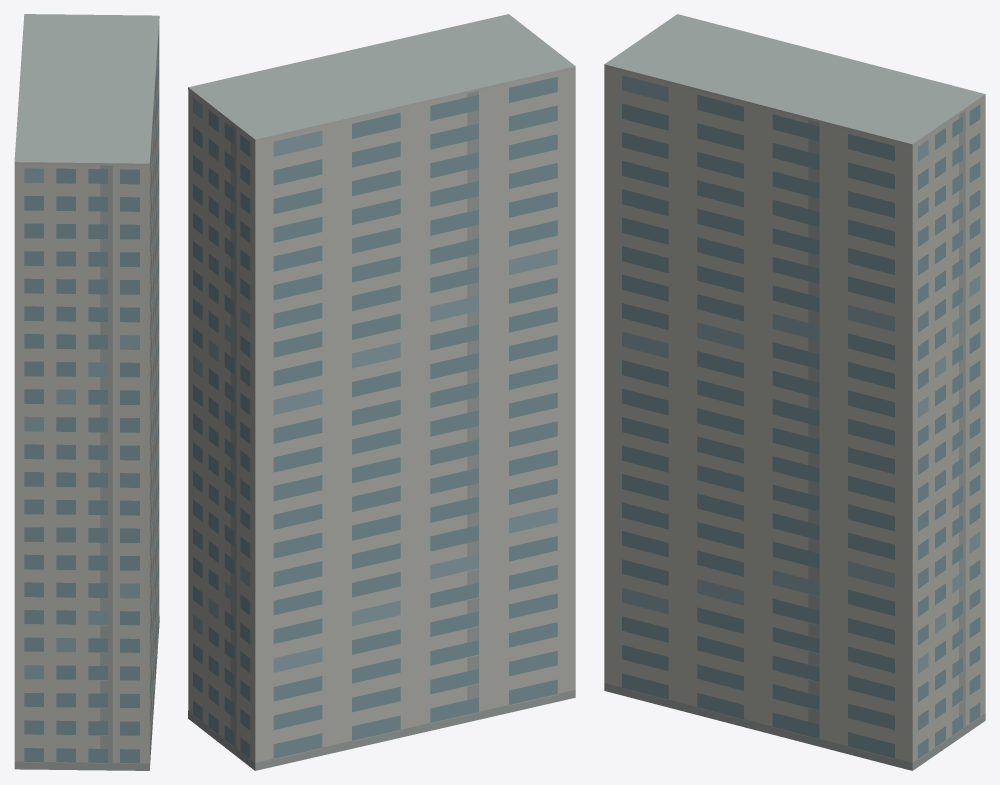
File: residential-451a2aeb-df6a-409b-808c-85baf715b538.glb
The picture shows the model from 3 angles, left to right: view 1: azimuth 30°, elevation 25°; view 2: azimuth 150°, elevation 25°; view 3: azimuth 270°, elevation 25°; orthographic projection. The views are drawn at different scales.
Parts seen in each view (by area): view 1: residential-451a2aeb-df6a-409b-808c-85baf715b538.tmp; view 2: residential-451a2aeb-df6a-409b-808c-85baf715b538.tmp; view 3: residential-451a2aeb-df6a-409b-808c-85baf715b538.tmp.
Boxes of the visible parts, left/top/right/bottom form: residential-451a2aeb-df6a-409b-808c-85baf715b538.tmp: left=14, top=14, right=159, bottom=770; residential-451a2aeb-df6a-409b-808c-85baf715b538.tmp: left=188, top=14, right=575, bottom=770; residential-451a2aeb-df6a-409b-808c-85baf715b538.tmp: left=604, top=14, right=985, bottom=770.
Bounding box in the file's own units: 28.11 × 63 × 34.74.
